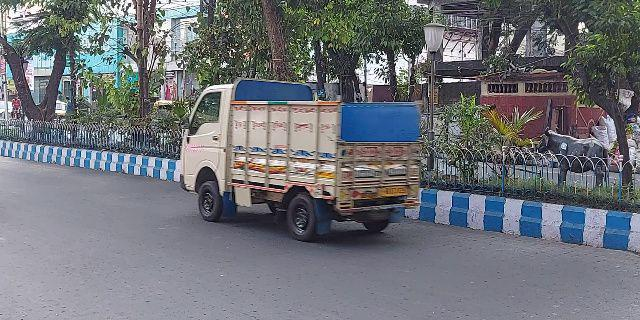Minitruck: (173, 76, 427, 249)
